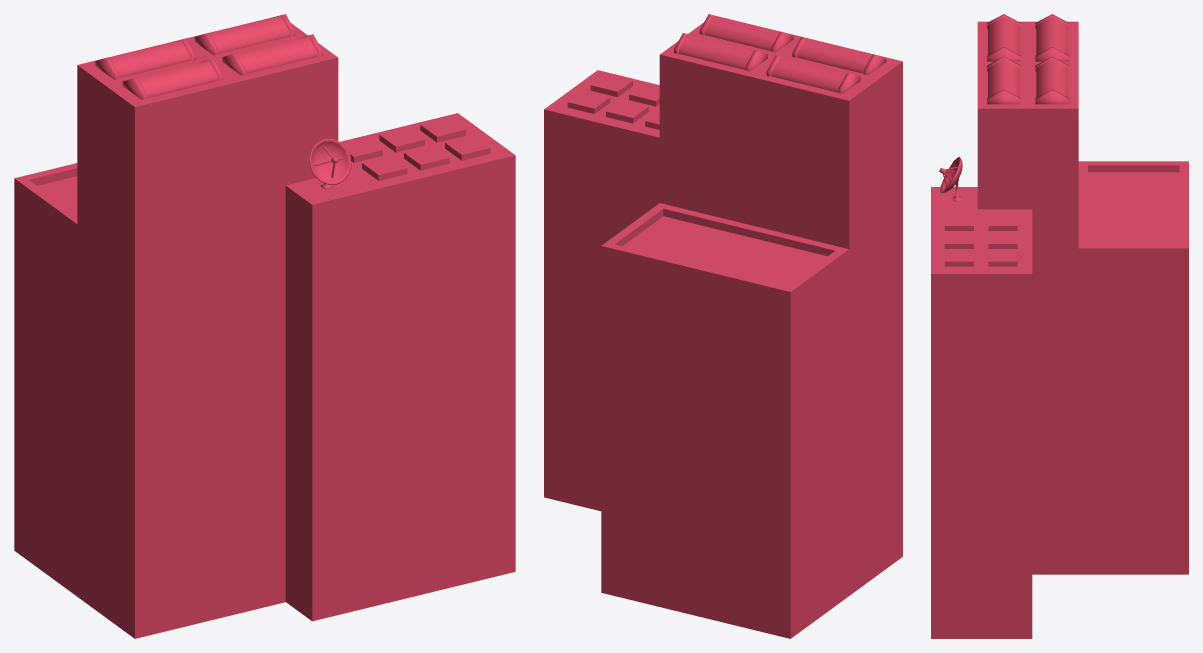
File: Building6_red.fbx
3 views of the same model, side by side, from view 1: azimuth 30°, elevation 25°; view 2: azimuth 150°, elevation 25°; view 3: azimuth 270°, elevation 25° (orthographic). The views are drawn at different scales.
Visible parts, largest first — view 1: Building 6; view 2: Building 6; view 3: Building 6.
Boxes of the visible parts, left/top/right/bottom form: Building 6: left=14, top=14, right=515, bottom=638; Building 6: left=544, top=14, right=902, bottom=638; Building 6: left=931, top=14, right=1188, bottom=638.
Size of the model in its own units: 2932 by 4323 by 2109.
Materials: 1 (1 with a texture image).
